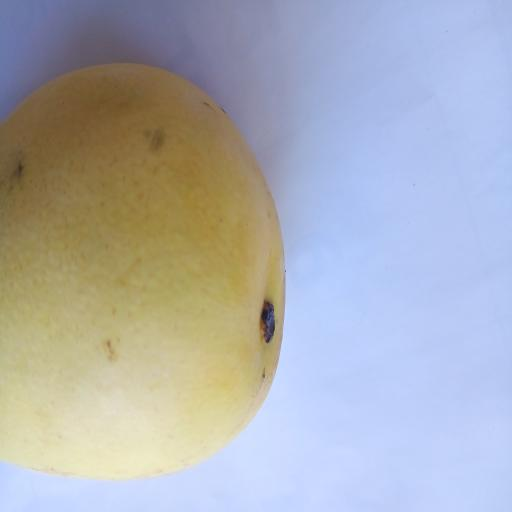mango-ripe: (0, 24, 311, 493)
